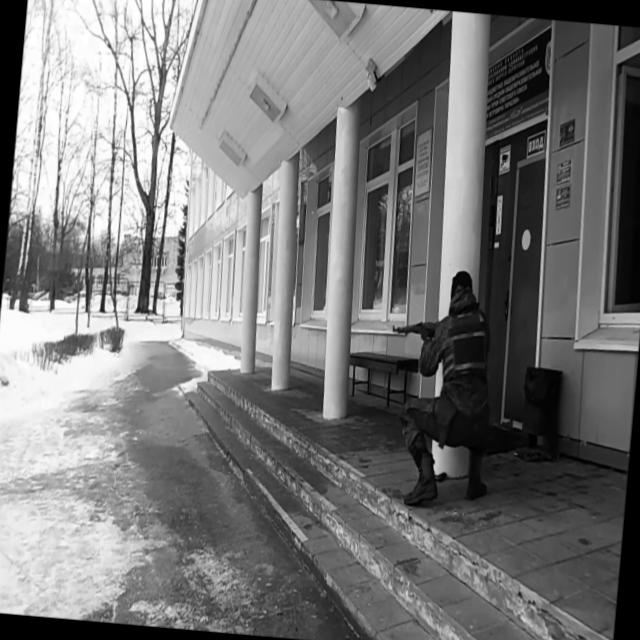gun: (390, 316, 440, 344)
person with a gun: (376, 262, 506, 511)
